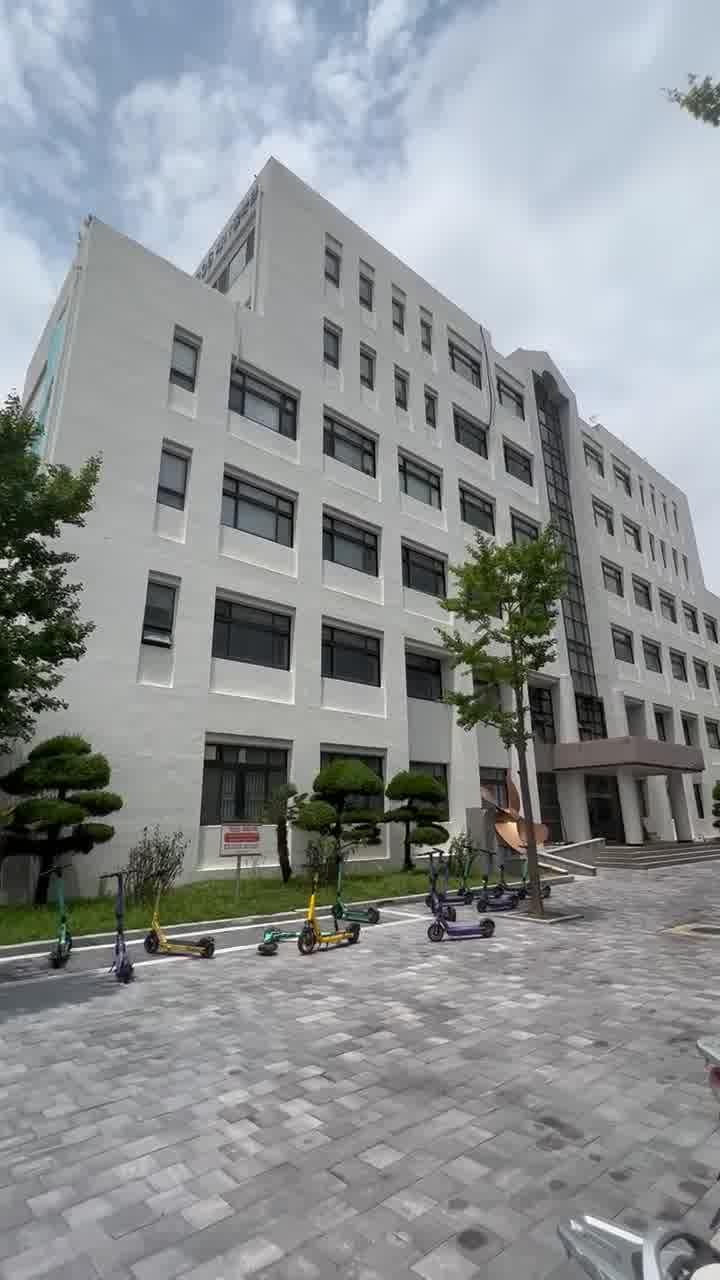building: (62, 174, 460, 768)
